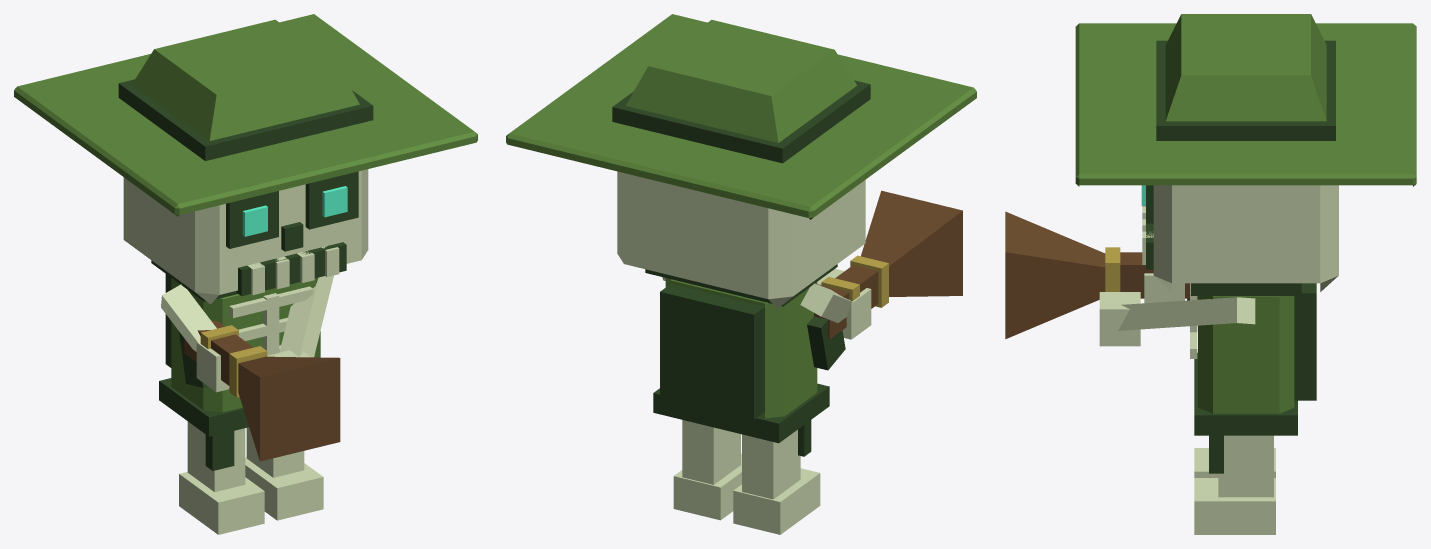
Rendered from shotgunner_r6.glb.
3 renders of one model, left to right at view 1: azimuth 30°, elevation 25°; view 2: azimuth 150°, elevation 25°; view 3: azimuth 270°, elevation 25°, orthographic. The views are drawn at different scales.
Parts seen in each view (by area): view 1: shotgunner_r6_mesh; view 2: shotgunner_r6_mesh; view 3: shotgunner_r6_mesh.
Boxes of the visible parts, left/top/right/bottom form: shotgunner_r6_mesh: left=14, top=14, right=477, bottom=534; shotgunner_r6_mesh: left=506, top=14, right=976, bottom=534; shotgunner_r6_mesh: left=1005, top=14, right=1416, bottom=534.
Bounding box in the file's own units: 1.07 × 1.5 × 1.21.
1 material, 1 textured.
